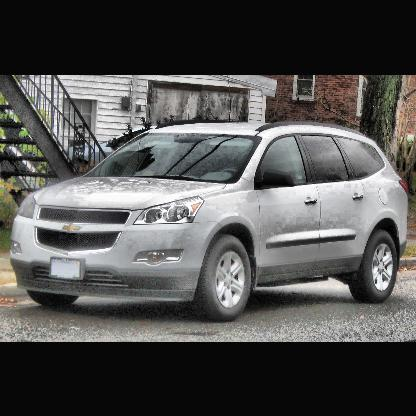Chevrolet Traverse SUV 2012: (11, 117, 410, 323)
